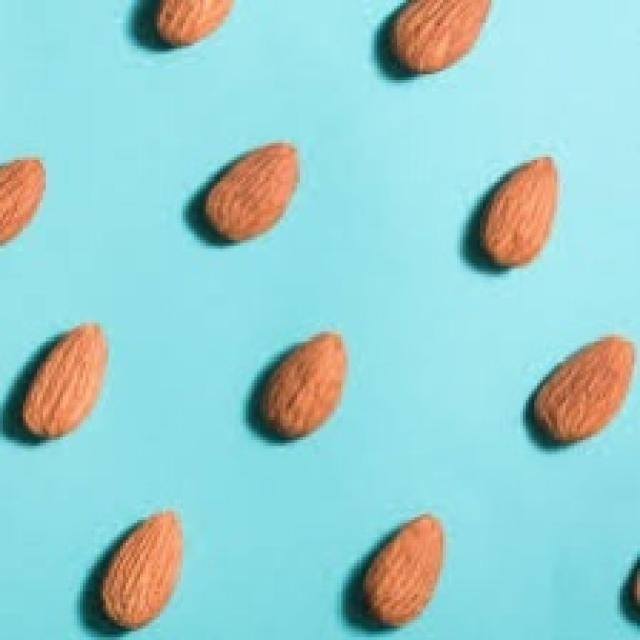almond: (532, 334, 637, 449), (197, 137, 302, 247), (100, 509, 185, 634), (20, 319, 108, 439), (257, 327, 348, 442), (360, 510, 443, 630), (475, 152, 560, 267), (386, 0, 490, 78)
